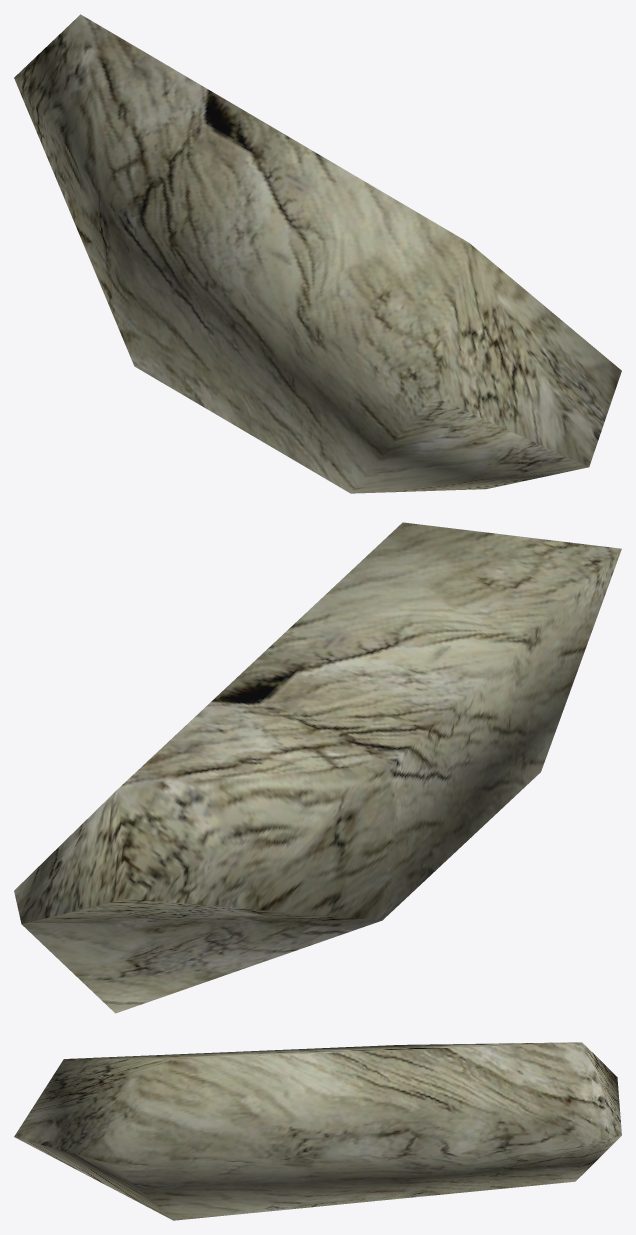
Rendered from shor_driftwood_massassi_sm_l1.fbx.
3 renders of one model, top to bottom at view 1: azimuth 30°, elevation 25°; view 2: azimuth 150°, elevation 25°; view 3: azimuth 270°, elevation 25°, orthographic. The views are drawn at different scales.
Parts seen in each view (by area): view 1: mesh_node; view 2: mesh_node; view 3: mesh_node.
Part boxes in pixels (x1,y1,x2,y2): mesh_node: (14,14,621,493); mesh_node: (14,522,621,1013); mesh_node: (14,1042,621,1220).
Size of the model in its own units: 0.4803 by 0.4194 by 1.49.
